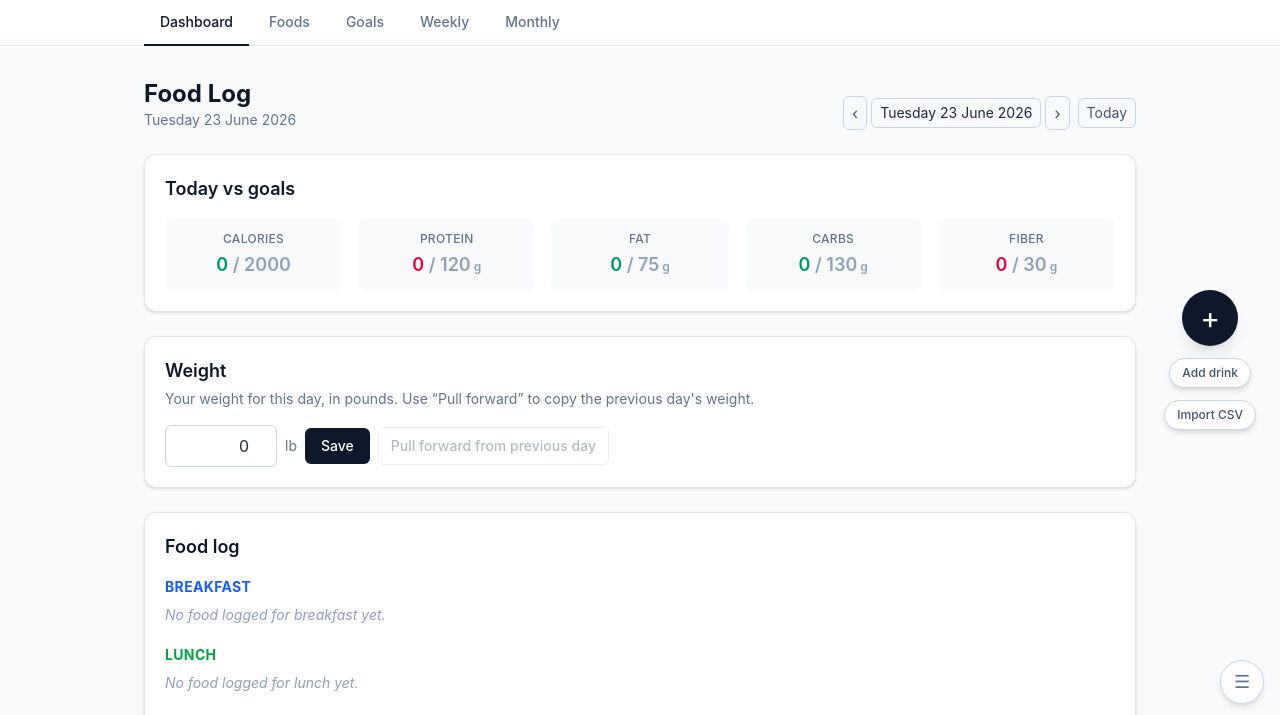
Test: App tab navigation › opens a blank modal from the FAB after a pre-filled selection was closed
Pre-fill once, then cancel.
Click the tab "Foods". click: (289, 23)
box: [253, 0, 326, 46]
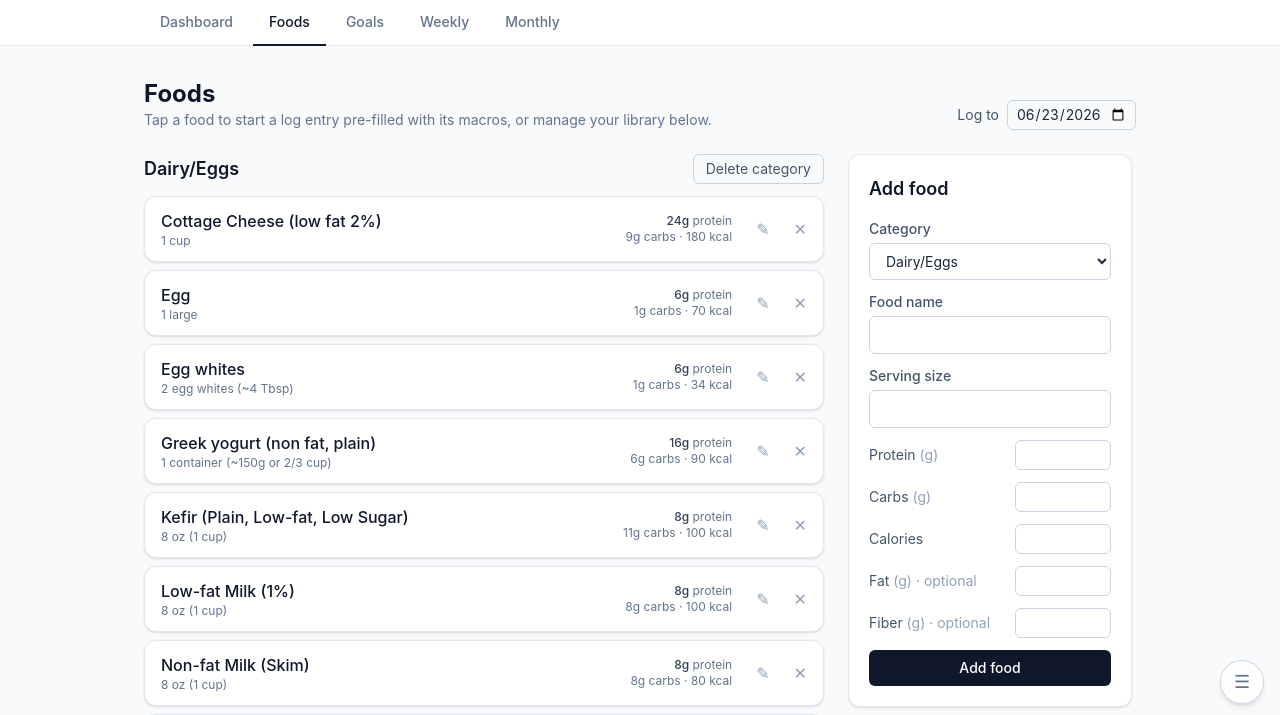
Click the button "Egg". click: (179, 314)
box: [153, 275, 740, 331]
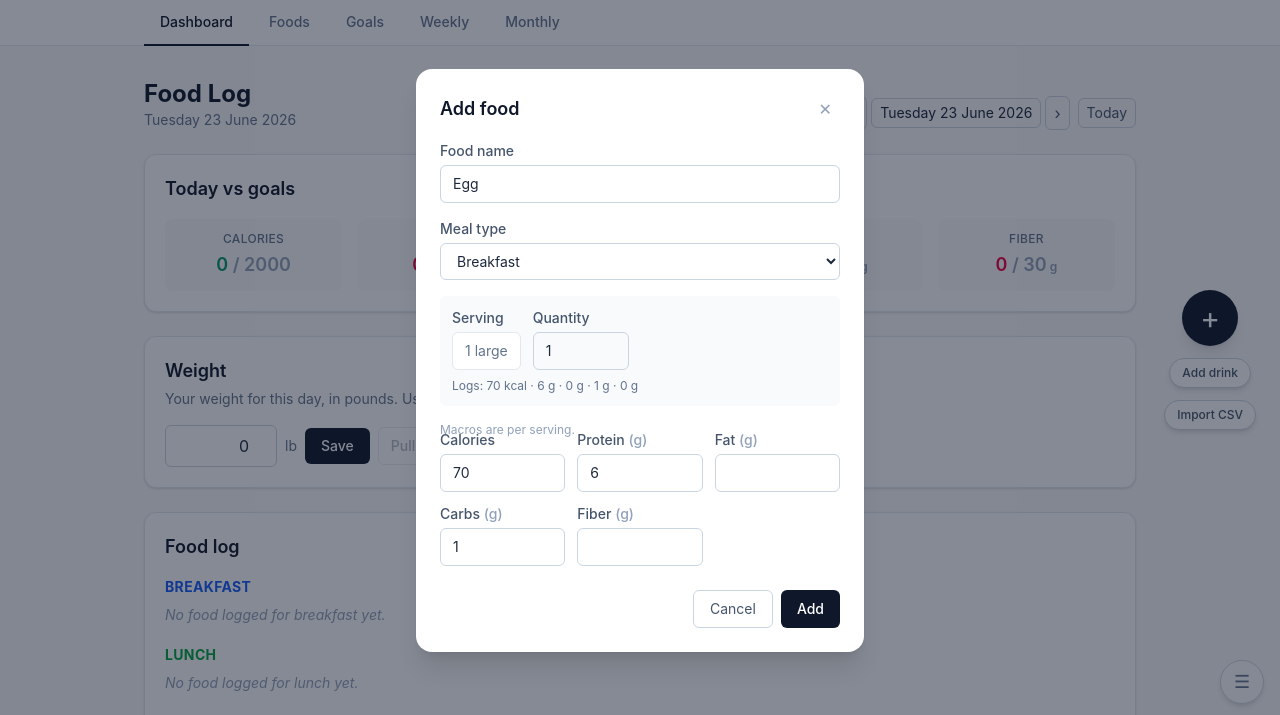
Click the button "Cancel". click: (733, 608)
box: [693, 590, 773, 628]
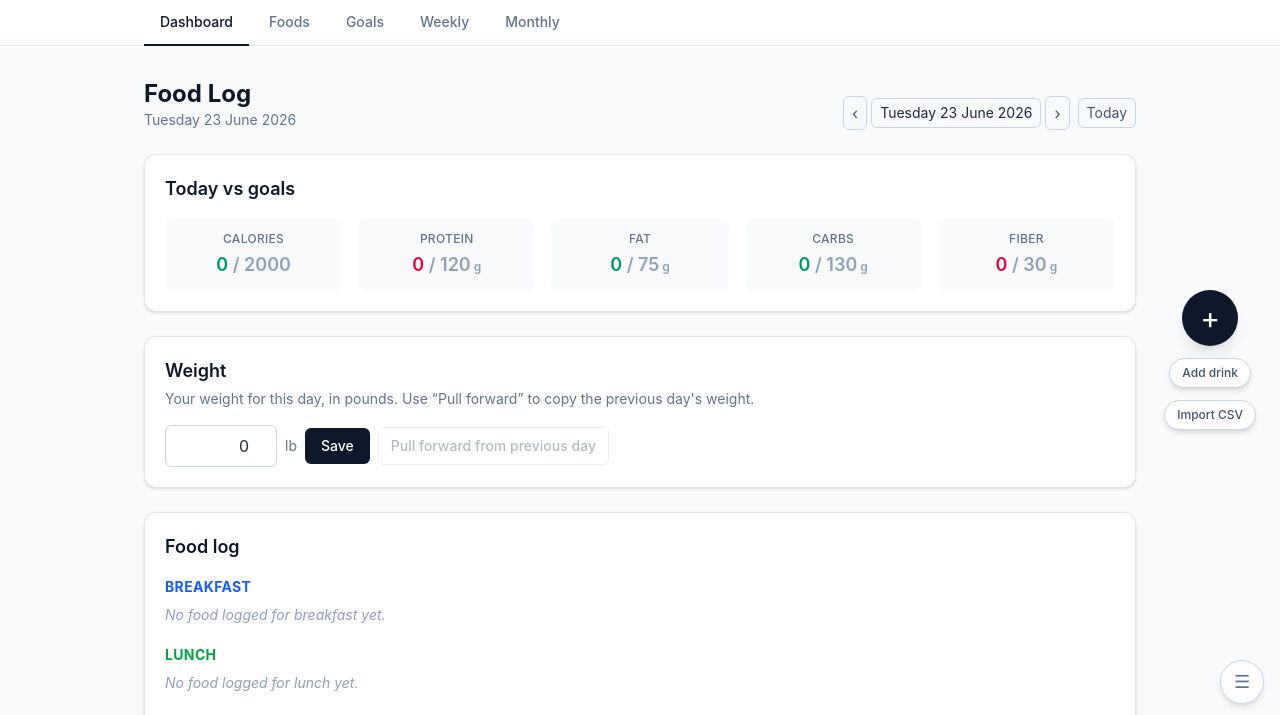
FAB should now open blank, not re-using the previous pre-fill.
Click the button named "Add food". click: (1210, 318)
box: [1182, 290, 1238, 346]
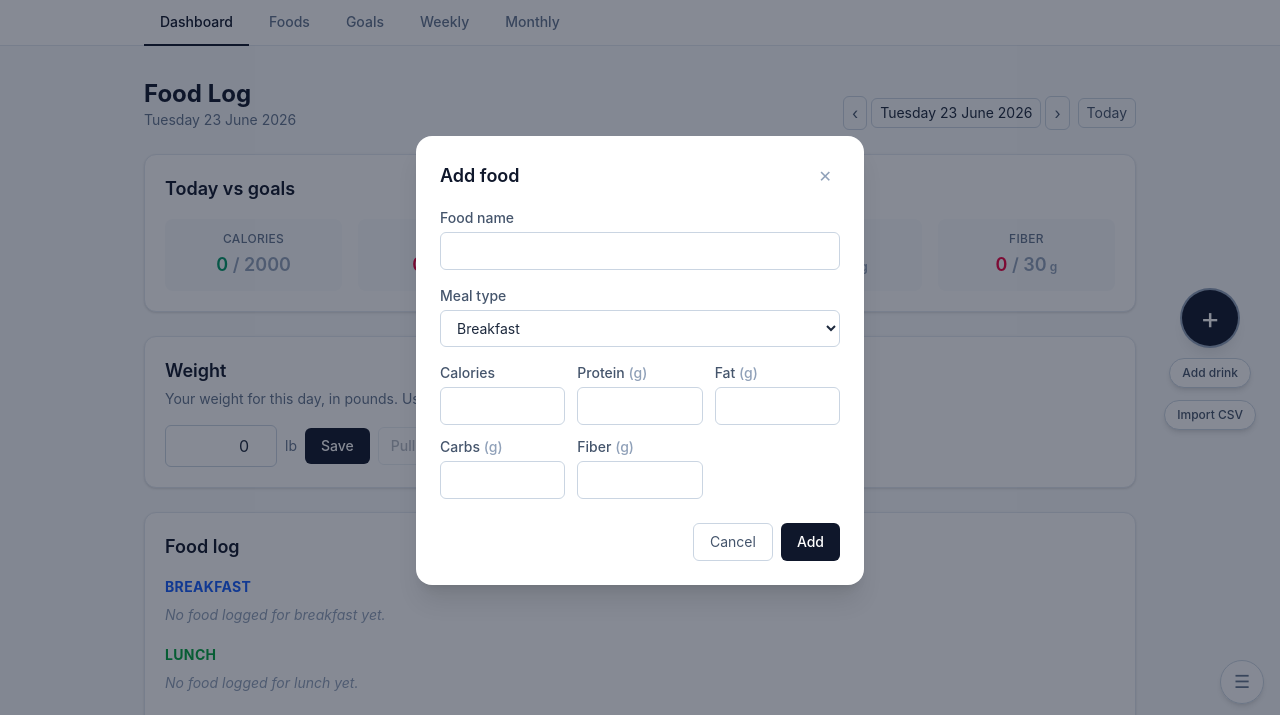
Expected: the field labelled "Food name" is empty, [440, 232, 840, 270]
Expected: the number field labelled "Protein" is not empty, [577, 386, 703, 424]
